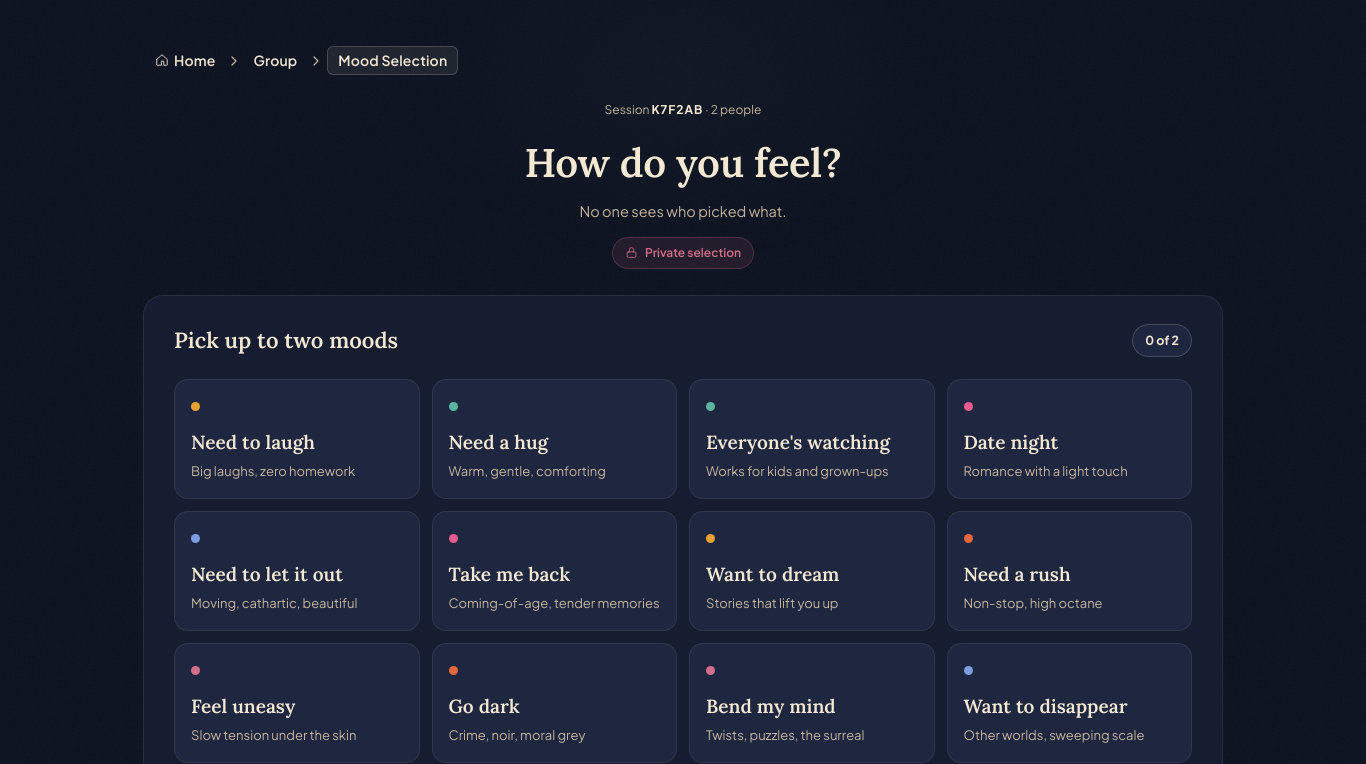
Test: Group mood page › counts the text's mood after the tiles, two in all
Expected: the heading "How do you feel?" is shown, [525,133,842,193]
Click the button "Need to laugh Big laughs, zero homework": click(297, 439) [174,379,420,499]
(page scrolled)
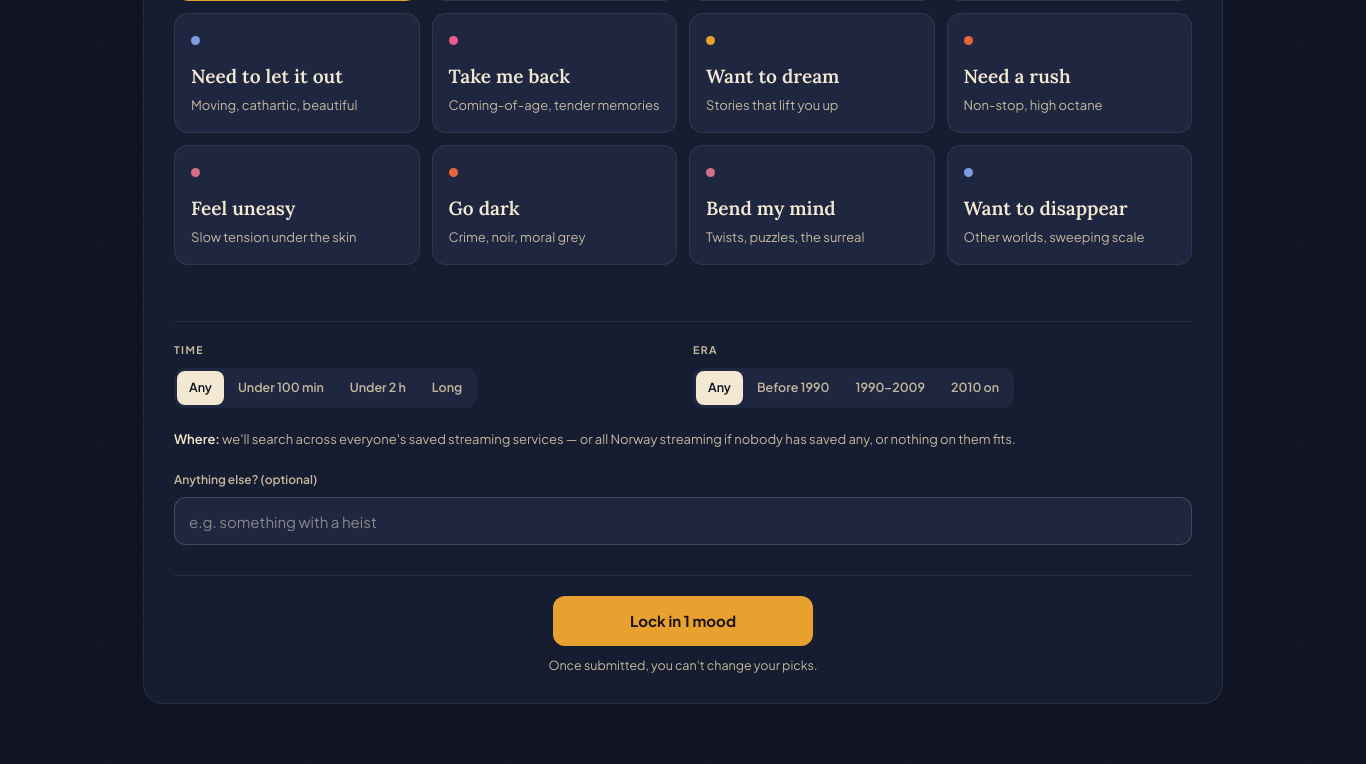
In the field labelled "Anything else? (optional)": (683, 521) [174,497,1192,545], type "cozy scary"
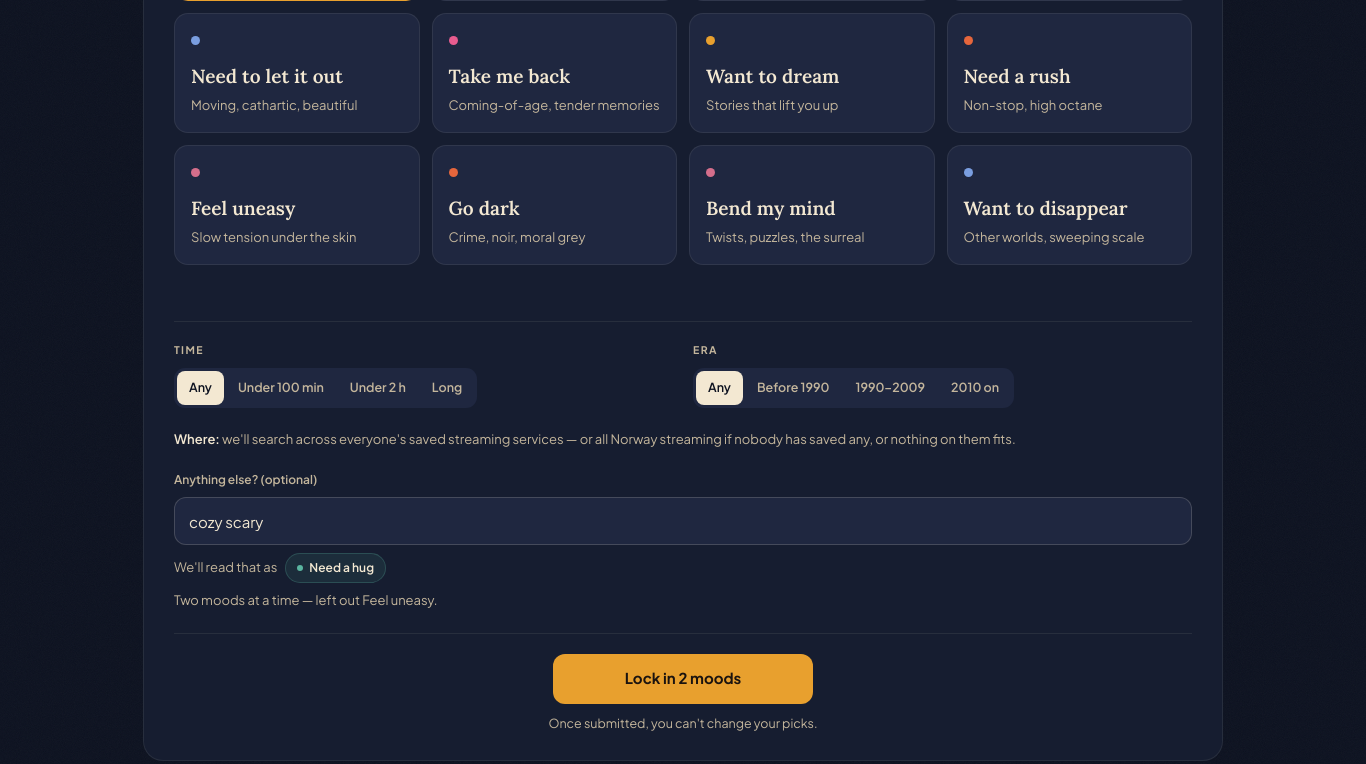
Result: the button "Lock in 2 moods" is shown at [553,654,813,704]
